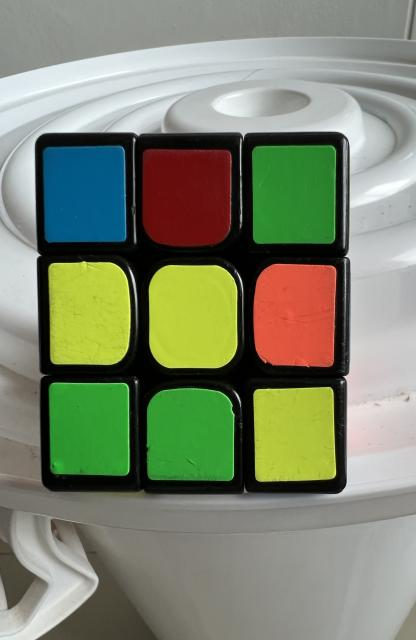Blue: (42, 145, 127, 242)
Green: (251, 145, 336, 244), (146, 388, 235, 481), (49, 382, 130, 476)
Orange: (254, 264, 337, 368)
Red: (142, 149, 232, 248)
Yellow: (148, 265, 238, 369), (48, 261, 131, 365), (254, 388, 336, 482)
